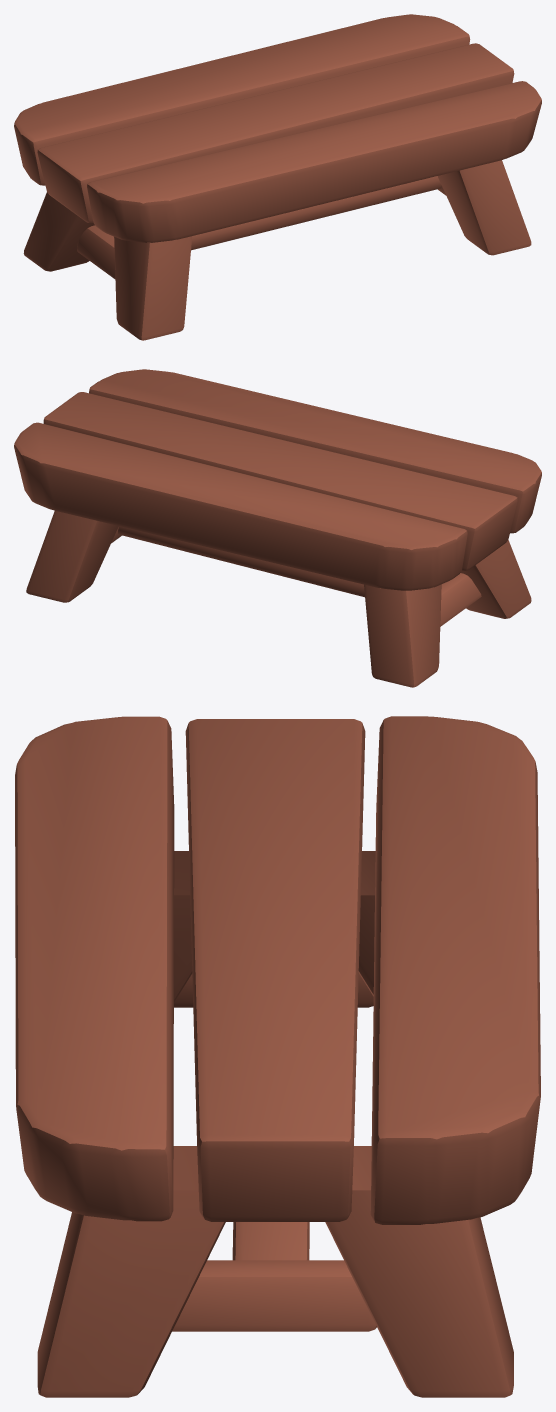
File: bench.gltf
3 renders of one model, top to bottom at view 1: azimuth 30°, elevation 25°; view 2: azimuth 150°, elevation 25°; view 3: azimuth 270°, elevation 25°, orthographic. The views are drawn at different scales.
Visible parts, largest first — view 1: bench; view 2: bench; view 3: bench.
Part boxes in pixels (x1,y1,x2,y2): bench: [14, 14, 541, 340]; bench: [14, 369, 541, 687]; bench: [15, 716, 540, 1397].
Size of the model in its own units: 1.45 by 0.4558 by 0.7533.
